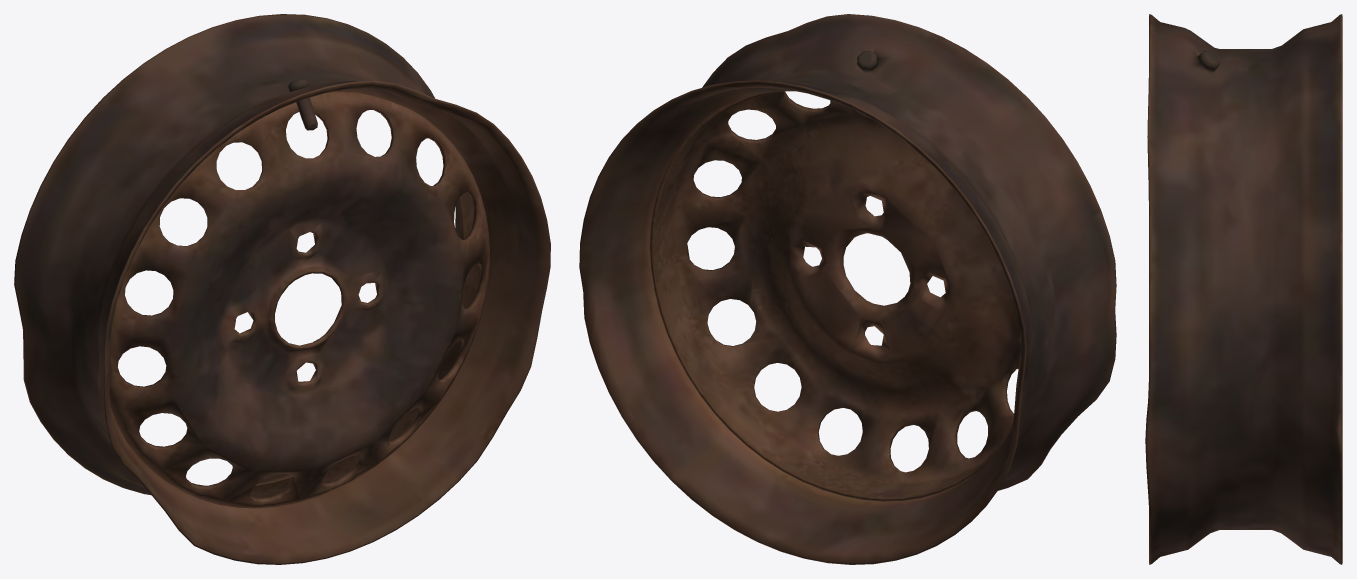
Rendered from rusted_wheel_rim_02.glb.
The picture shows the model from 3 angles, left to right: view 1: azimuth 30°, elevation 25°; view 2: azimuth 150°, elevation 25°; view 3: azimuth 270°, elevation 25°; orthographic projection. The views are drawn at different scales.
Visible parts, largest first — view 1: rusted_wheel_rim_02; view 2: rusted_wheel_rim_02; view 3: rusted_wheel_rim_02.
Boxes of the visible parts, left/top/right/bottom form: rusted_wheel_rim_02: left=14, top=14, right=550, bottom=564; rusted_wheel_rim_02: left=579, top=14, right=1116, bottom=564; rusted_wheel_rim_02: left=1145, top=14, right=1342, bottom=564.
Bounding box in the file's own units: 0.3355 × 0.3383 × 0.1211.
1 material, 1 textured.
